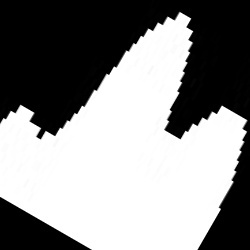spot: (3, 14, 245, 247)
